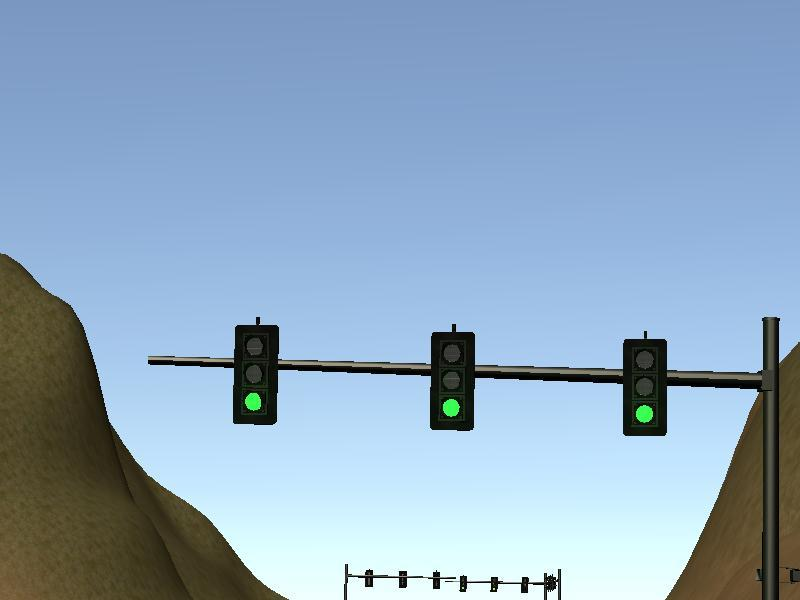Green: (431, 335, 474, 429), (624, 339, 666, 435), (234, 325, 275, 423)
